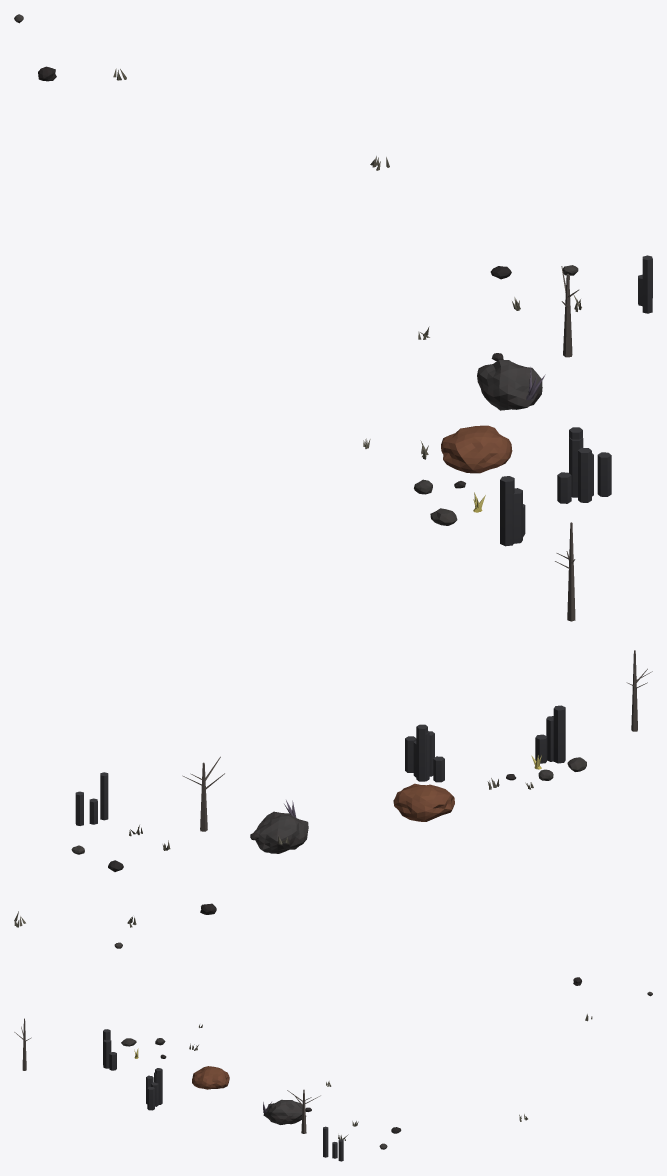
The model's file is ash_land_scatter_c22_29.glb.
The picture shows the model from 3 angles, top to bottom: view 1: azimuth 30°, elevation 25°; view 2: azimuth 150°, elevation 25°; view 3: azimuth 270°, elevation 25°; orthographic projection. The views are drawn at different scales.
Visible parts, largest first — view 1: ash_land_scatter_c22_29; view 2: ash_land_scatter_c22_29; view 3: ash_land_scatter_c22_29.
Part boxes in pixels (x1,y1,x2,y2): ash_land_scatter_c22_29: (14, 14, 652, 621); ash_land_scatter_c22_29: (14, 650, 652, 948); ash_land_scatter_c22_29: (14, 977, 652, 1161).
Size of the model in its own units: 33.51 by 13.75 by 82.88.
